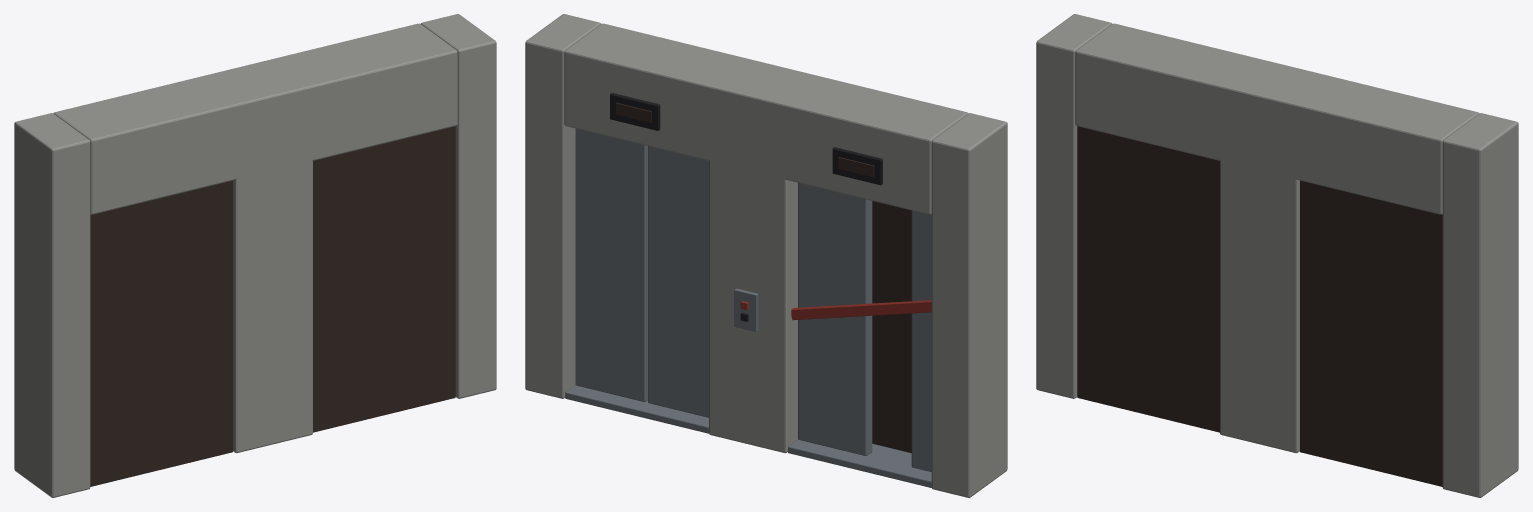
Rendered from lobby_elevators.glb.
3 renders of one model, left to right at view 1: azimuth 30°, elevation 25°; view 2: azimuth 150°, elevation 25°; view 3: azimuth 330°, elevation 25°, orthographic.
Parts seen in each view (by area): view 1: lobby_elevators; view 2: lobby_elevators; view 3: lobby_elevators.
Part boxes in pixels (<box>): lobby_elevators: <box>14,14,496,497</box>; lobby_elevators: <box>525,14,1007,497</box>; lobby_elevators: <box>1036,14,1518,497</box>.
Size of what is drawn, in the model's own units: 4 by 3 by 0.65.
2 materials, 2 textured.
